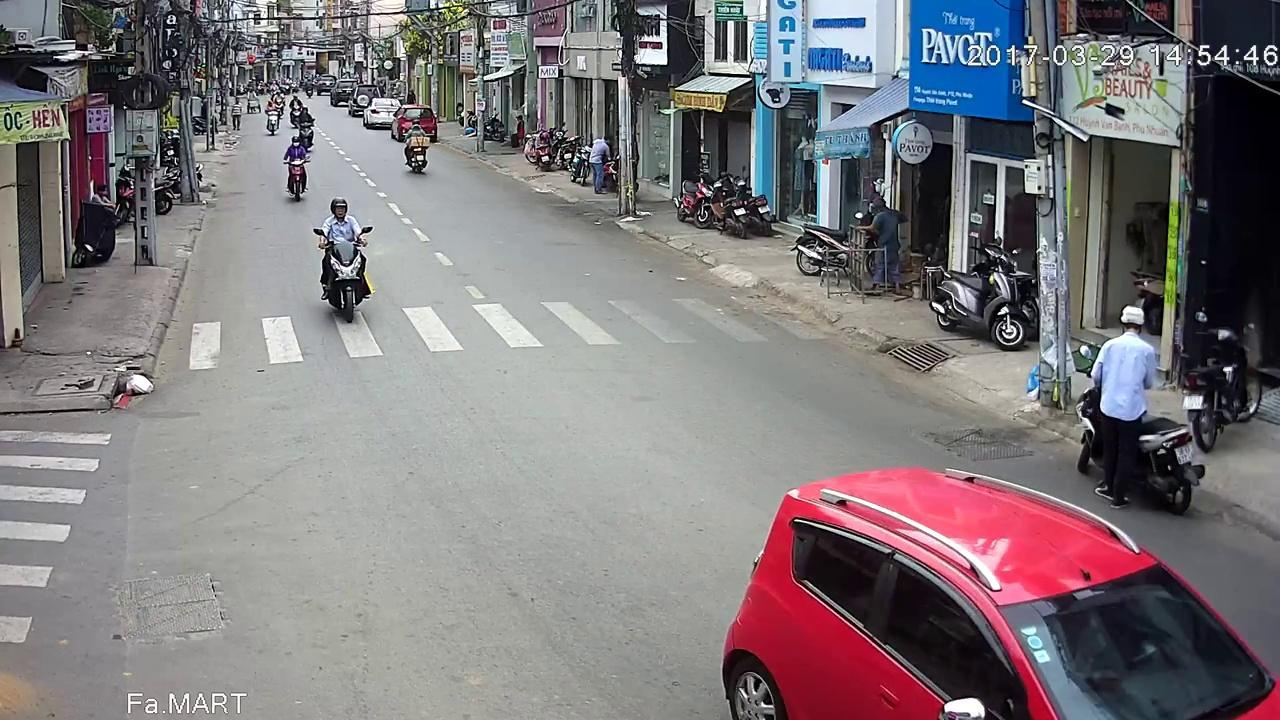xe hoi: (724, 437, 1280, 720), (389, 101, 437, 140)
xe may: (312, 188, 377, 318), (280, 134, 310, 201), (403, 119, 431, 175), (295, 106, 315, 153)
